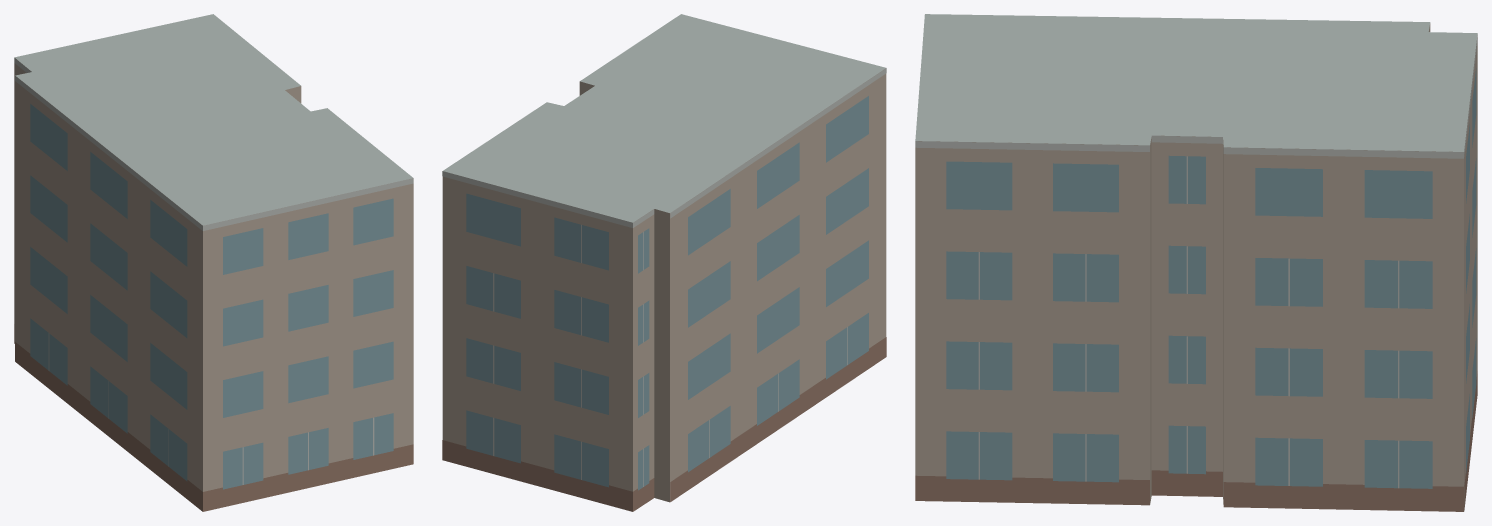
File: survey-upis-32791040.glb
3 views of the same model, side by side, from view 1: azimuth 30°, elevation 25°; view 2: azimuth 150°, elevation 25°; view 3: azimuth 270°, elevation 25° (orthographic). The views are drawn at different scales.
Parts seen in each view (by area): view 1: survey-upis-32791040.tmp; view 2: survey-upis-32791040.tmp; view 3: survey-upis-32791040.tmp.
Boxes of the visible parts, x1,y1,x2,y2 form: survey-upis-32791040.tmp: [14, 14, 413, 511]; survey-upis-32791040.tmp: [442, 14, 886, 511]; survey-upis-32791040.tmp: [915, 14, 1477, 511].
Bounding box in the file's own units: 10.63 × 12.91 × 18.29.
